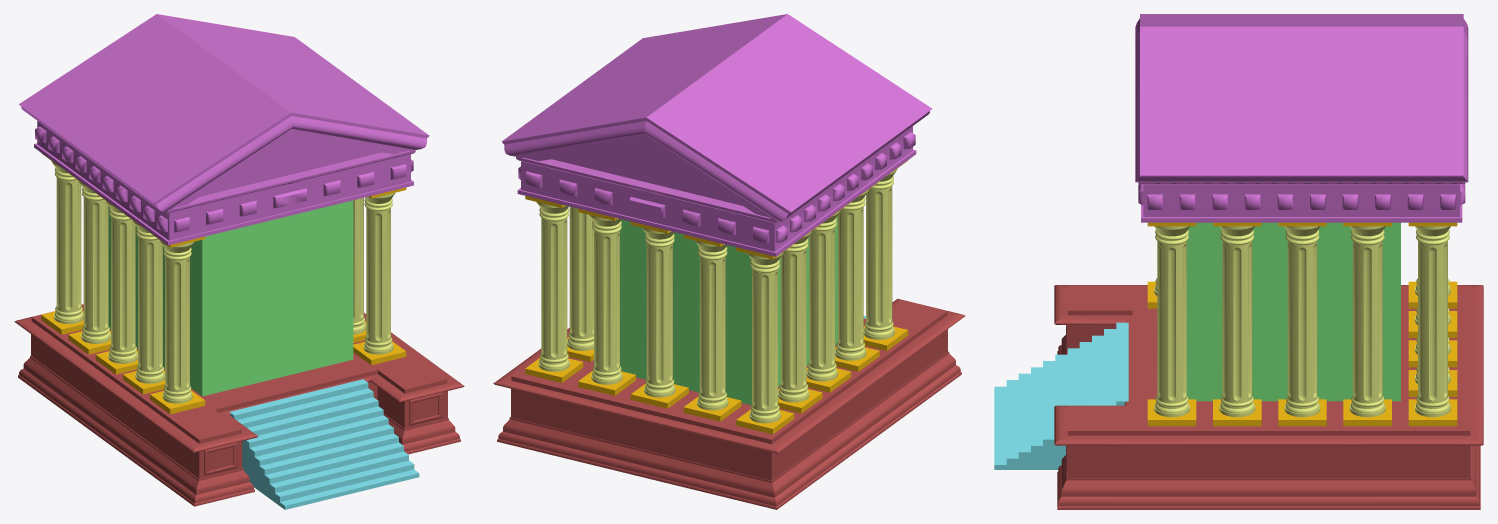
The model's file is Casa001_nuevo.fbx.
3 renders of one model, left to right at view 1: azimuth 30°, elevation 25°; view 2: azimuth 150°, elevation 25°; view 3: azimuth 270°, elevation 25°, orthographic. The views are drawn at different scales.
Parts seen in each view (by area): view 1: Box067, Box068, Box095, Box096, Plane057, Plane052, Plane060, Plane061, Plane058, Plane059, Plane053, Box107 (+1 smaller); view 2: Box067, Box068, Box095, Plane061, Plane063, Plane056, Plane064, Plane062, Plane059, Plane057, Plane060, Plane058 (+6 smaller); view 3: Box067, Box068, Box095, Box096, Plane055, Plane053, Plane054, Plane056, Plane052, Box079, Box106, Box104 (+2 smaller).
Part boxes in pixels (x1,y1,x2,y2): Box067: (19,14,429,245); Box068: (14,304,464,506); Box095: (108,200,353,396); Box096: (229,379,419,509); Plane057: (160,240,194,403); Plane052: (363,192,395,354); Plane060: (79,181,110,343); Plane061: (51,161,83,323); Plane058: (133,220,164,383); Plane059: (106,201,137,363); Plane053: (353,198,366,334); Box107: (150,390,205,414); Box067: (501,14,932,256); Box068: (493,298,965,509); Box095: (620,216,837,405); Plane061: (747,252,783,423); Plane063: (642,227,675,397); Plane056: (536,202,569,371); Plane064: (695,240,728,410); Plane062: (589,215,622,384); Plane059: (806,210,840,381); Plane057: (863,168,897,339); Plane060: (778,231,811,402); Plane058: (835,189,868,360); Box067: (1135,14,1468,222); Box068: (1054,285,1483,509); Box095: (1187,222,1400,401); Box096: (994,322,1128,469); Plane055: (1349,226,1385,417); Plane053: (1219,226,1255,417); Plane054: (1284,226,1320,417); Plane056: (1415,226,1450,417); Plane052: (1154,226,1189,417); Box079: (1147,399,1196,426); Box106: (1408,399,1457,426); Box104: (1343,399,1391,426).
Bounding box in the file's own units: 663 × 772 × 847.
